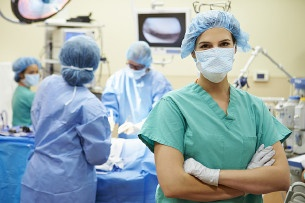Mask: (193, 37, 234, 78)
